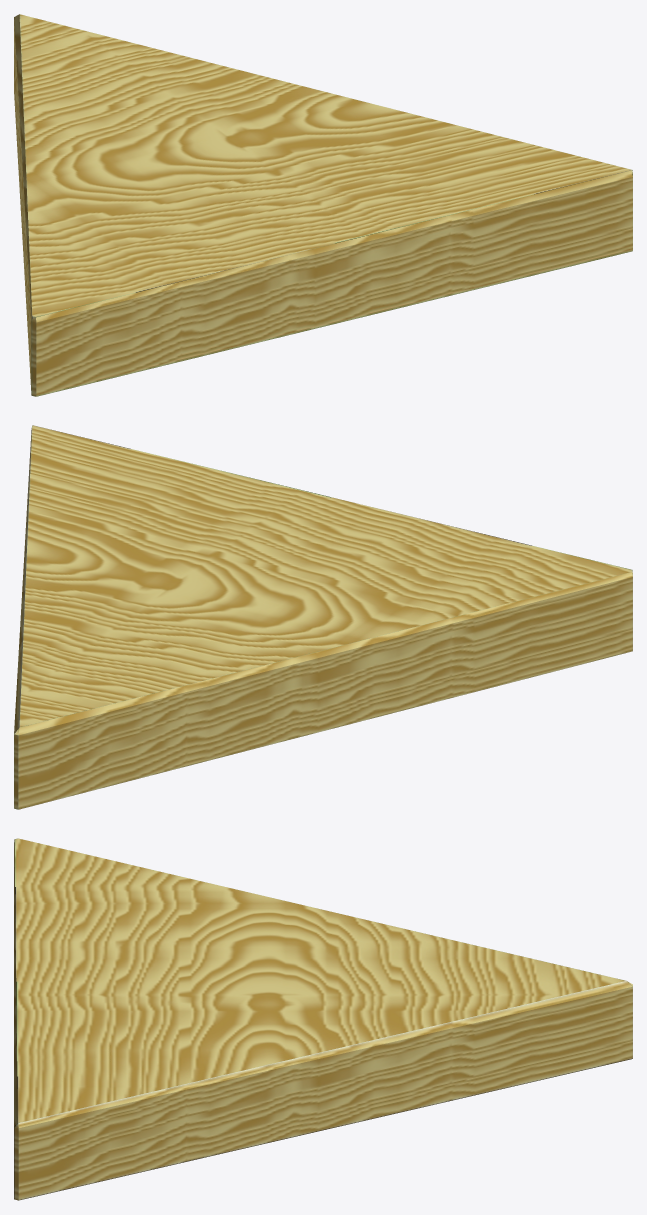
The model's file is peg_board.FBX.
The picture shows the model from 3 angles, top to bottom: view 1: azimuth 30°, elevation 25°; view 2: azimuth 150°, elevation 25°; view 3: azimuth 270°, elevation 25°; orthographic projection. The views are drawn at different scales.
Parts seen in each view (by area): view 1: Line001; view 2: Line001; view 3: Line001.
Part boxes in pixels (box(x1,y1,x2,y2)): Line001: box(14, 14, 632, 396); Line001: box(14, 425, 632, 809); Line001: box(14, 838, 632, 1200).
Bounding box in the file's own units: 95.29 × 12 × 87.35.
1 material, 1 textured.
